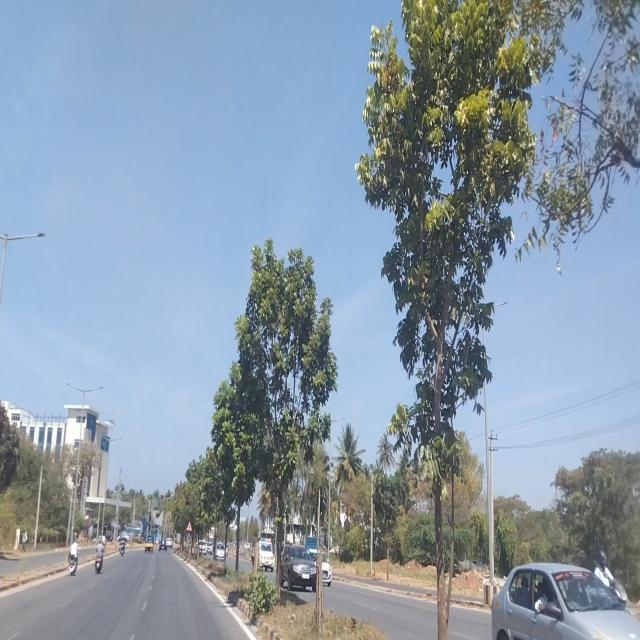bien_cam: (186, 520, 192, 533)
